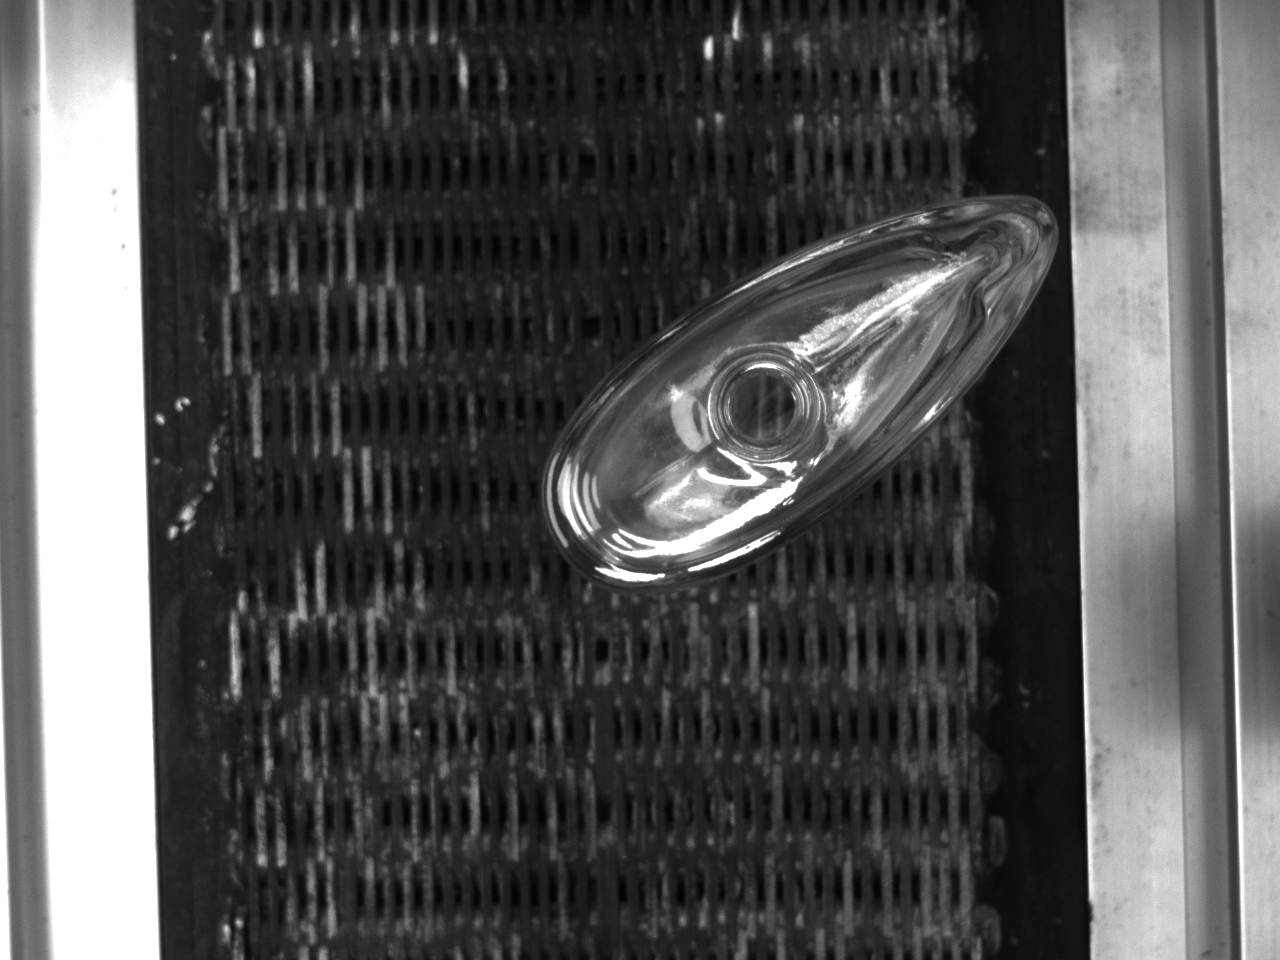bottleneck: (707, 350, 822, 461)
